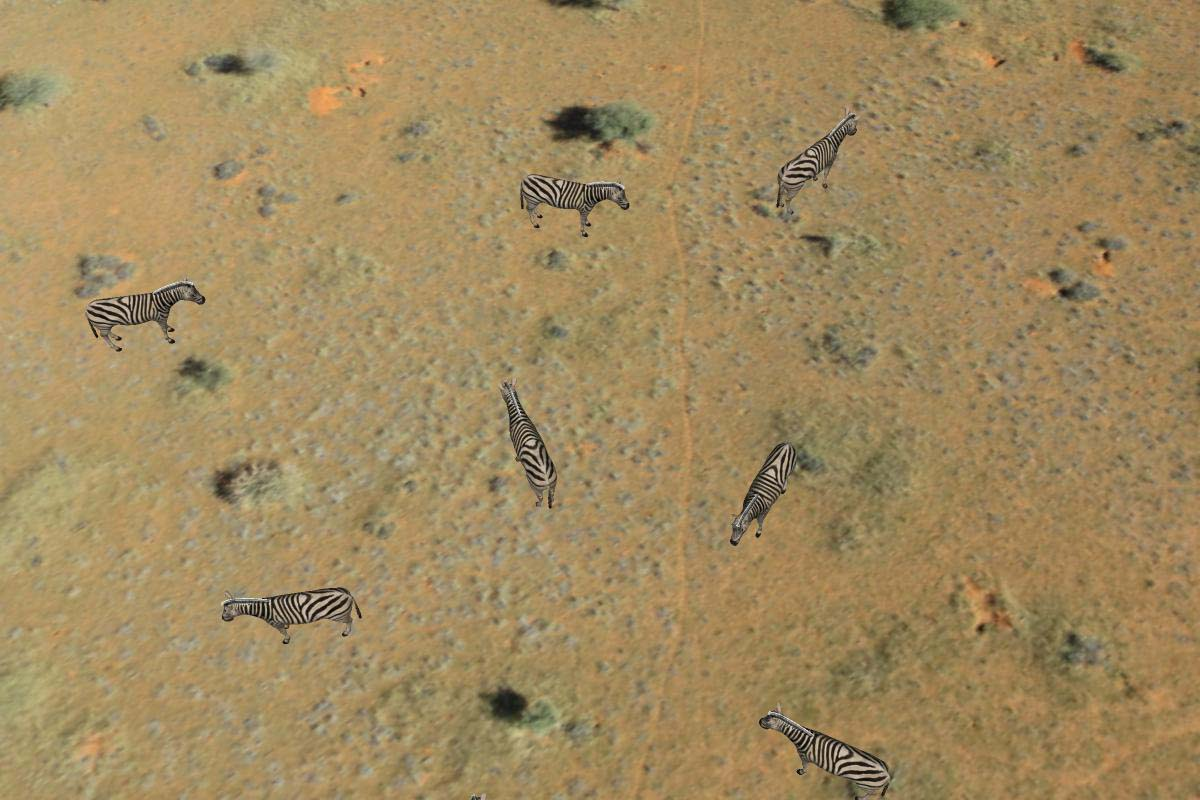zebra: (755, 694, 907, 800), (209, 577, 377, 652), (73, 273, 213, 354), (496, 379, 567, 521), (725, 435, 807, 548), (517, 167, 634, 244), (769, 112, 863, 206)
